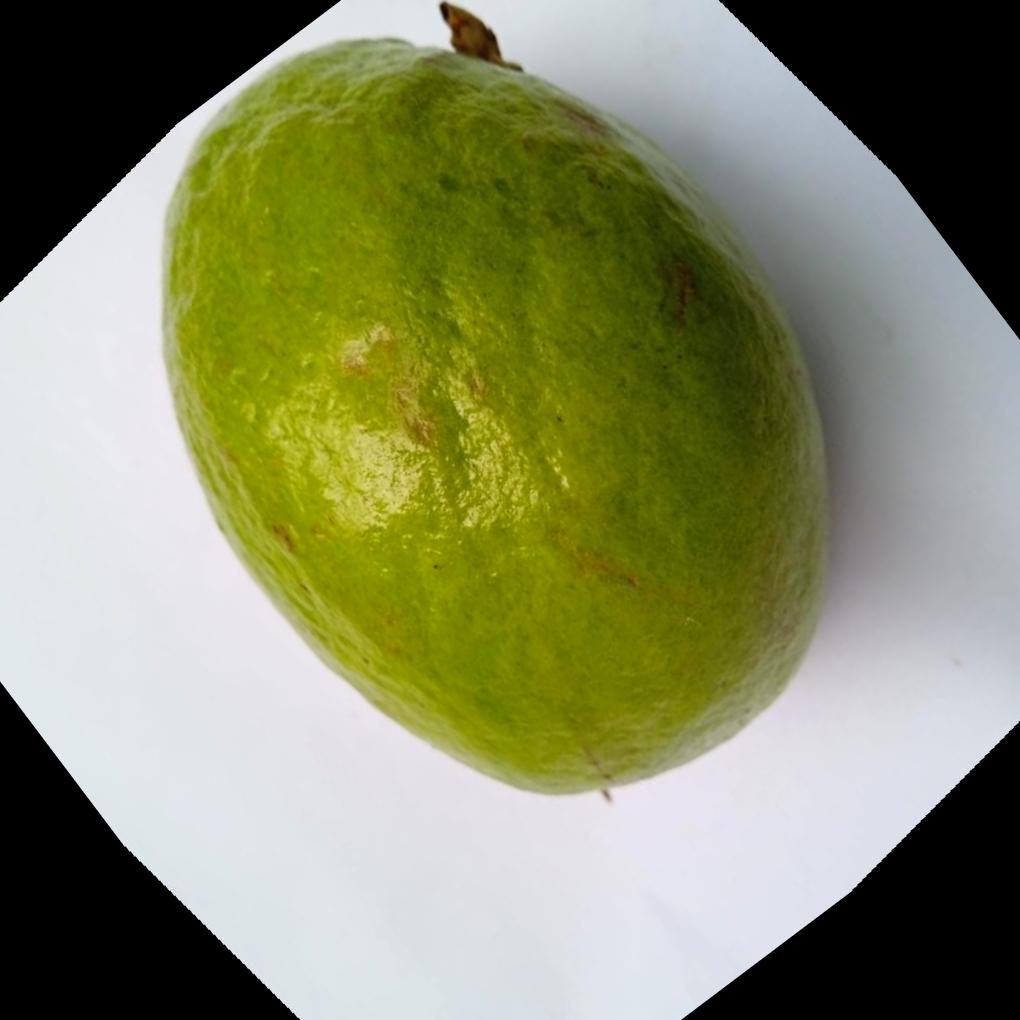FreshGuava: (160, 6, 835, 797)
